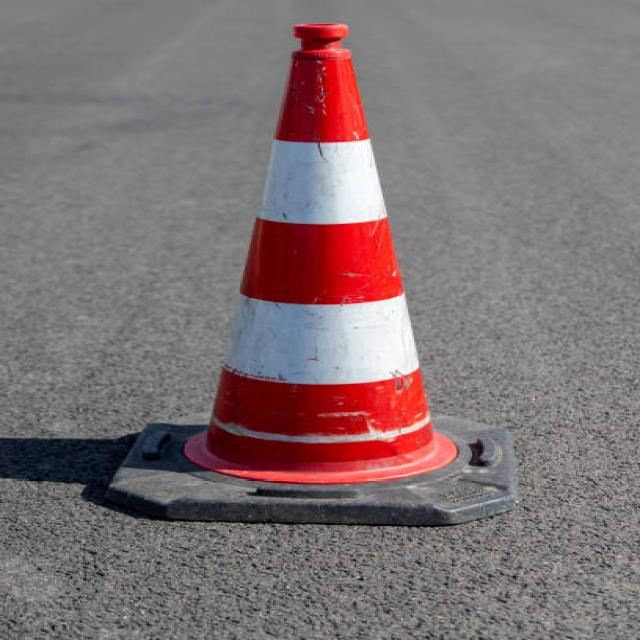Traffic Cone: (68, 0, 562, 550)
